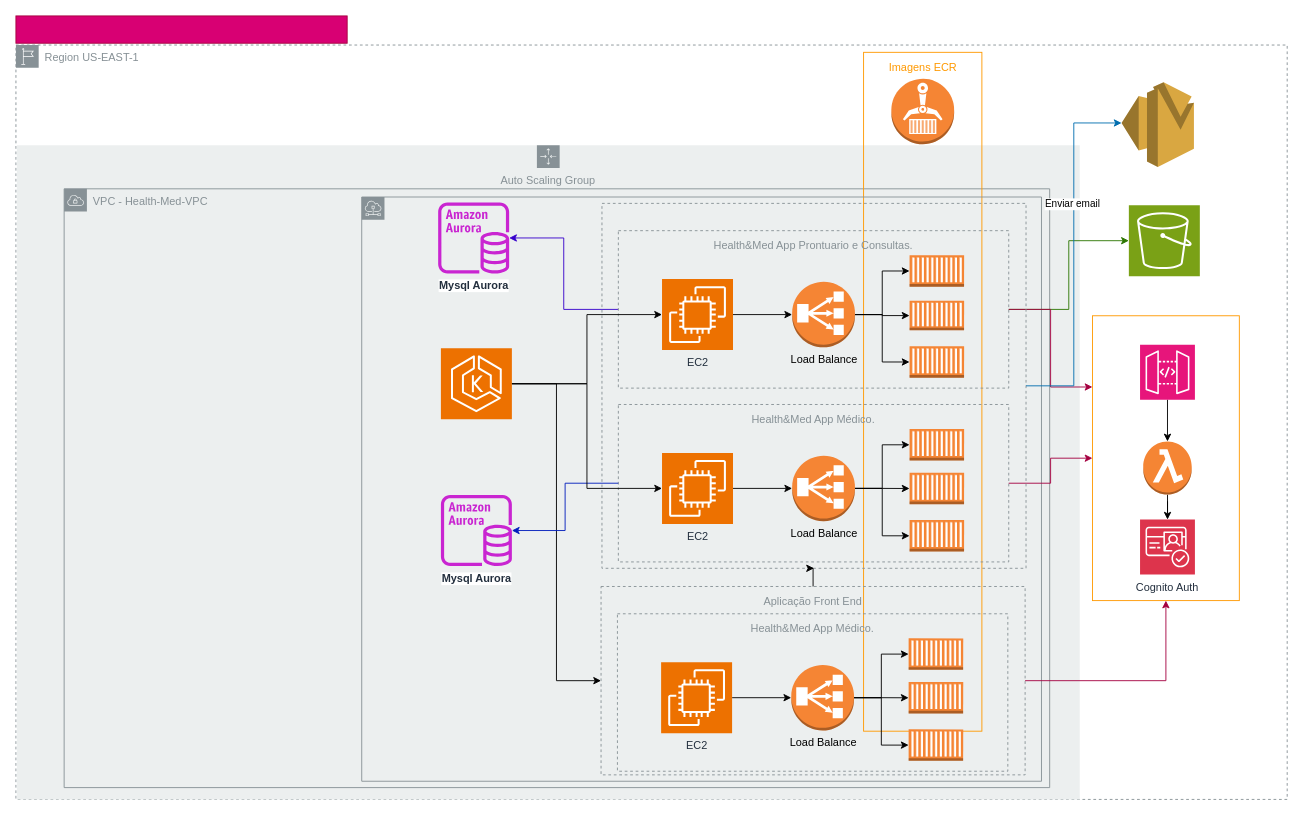
Some shapes in this 1303 by 815 pixel diagram are drawn without their labels. The shapes that lost their labels are listed below. From the top down, each one's box as (x1, y1, x2, y2) in pixels, then its label:
(15, 15, 347, 43): Versão para aguentar uma alta demanda de requisições
(890, 78, 954, 144): ECR
(1121, 81, 1194, 167): SES
(1128, 204, 1200, 276): S3 file
(440, 347, 512, 419): Health-Med-Cluster
(601, 202, 1026, 568): Aplicação backend
(1092, 315, 1239, 601): User Auth
(361, 196, 1041, 781): Subnet
